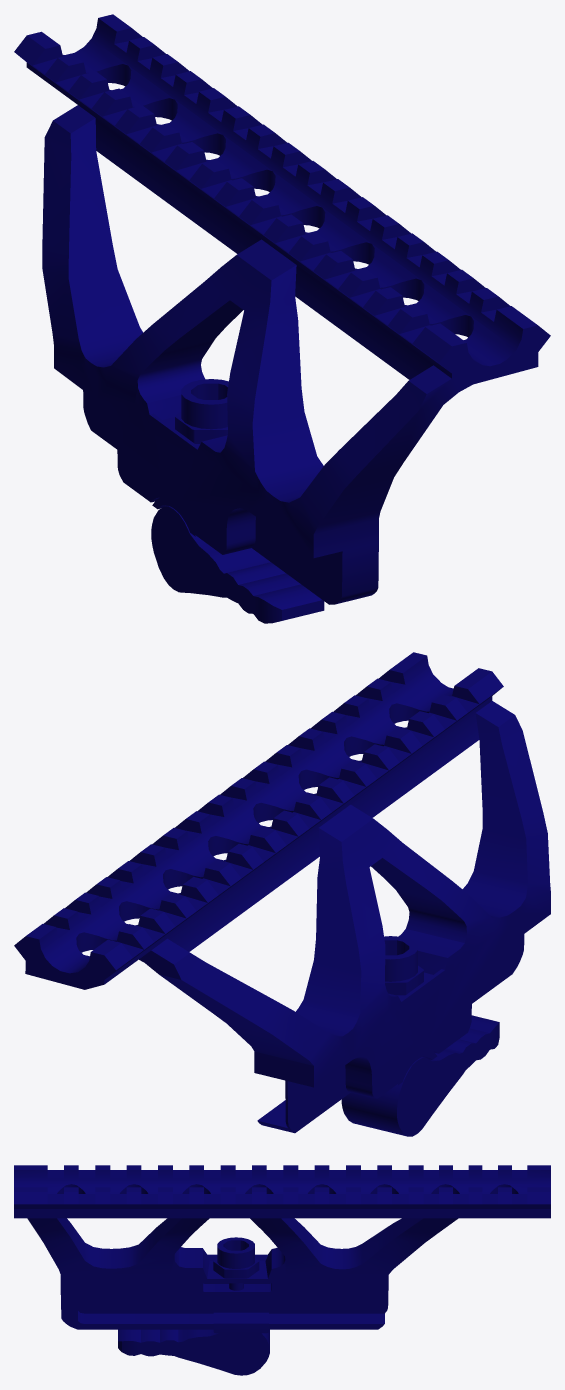
File: HQ_Bracket_Picatinny.FBX
The picture shows the model from 3 angles, top to bottom: view 1: azimuth 30°, elevation 25°; view 2: azimuth 150°, elevation 25°; view 3: azimuth 270°, elevation 25°; orthographic projection. The views are drawn at different scales.
Visible parts, largest first — view 1: HQ; view 2: HQ; view 3: HQ.
Boxes of the visible parts, bbox=[...] form: HQ: bbox=[14, 14, 550, 623]; HQ: bbox=[14, 652, 550, 1136]; HQ: bbox=[14, 1165, 550, 1375].
Bounding box in the file's own units: 4.66 × 7.8 × 17.11.
